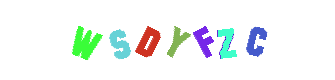C: (215, 0, 295, 80)
D: (127, 0, 207, 80)
F: (127, 0, 207, 80)
S: (108, 0, 188, 80)
W: (45, 0, 125, 80)
Y: (127, 0, 207, 80)
Z: (166, 0, 246, 80)
